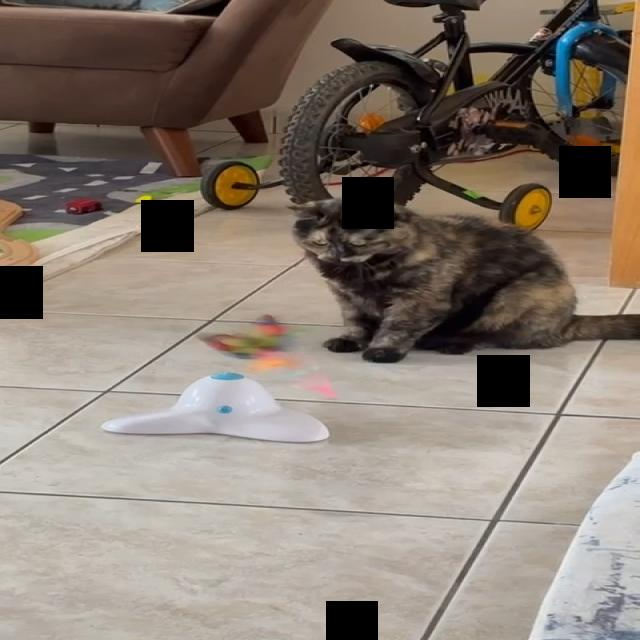authorized: (285, 195, 639, 363)
